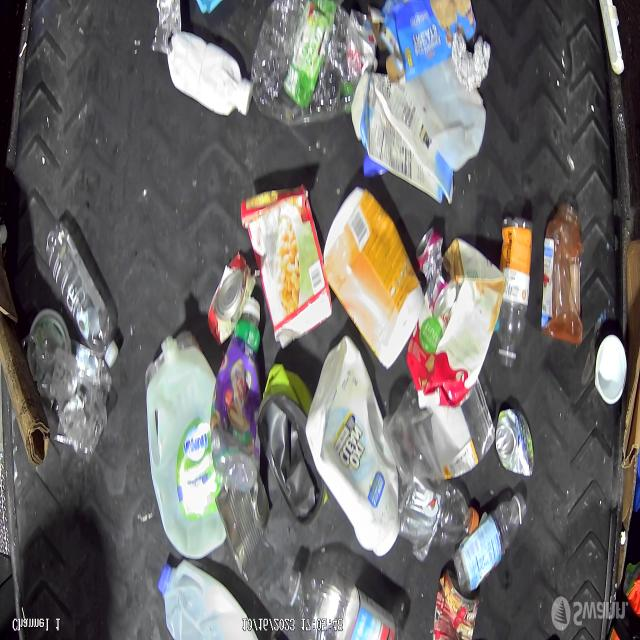can: (208, 252, 254, 341), (416, 230, 454, 320), (497, 414, 531, 483)
milk_jug: (313, 338, 410, 555), (156, 358, 214, 558), (150, 560, 252, 640)
non_white_jug: (328, 197, 422, 367), (255, 377, 321, 524)
plastic_bottle: (250, 10, 378, 126), (48, 225, 120, 368), (292, 558, 394, 640), (452, 494, 530, 588), (540, 206, 584, 344), (496, 216, 534, 368), (399, 486, 477, 544)
